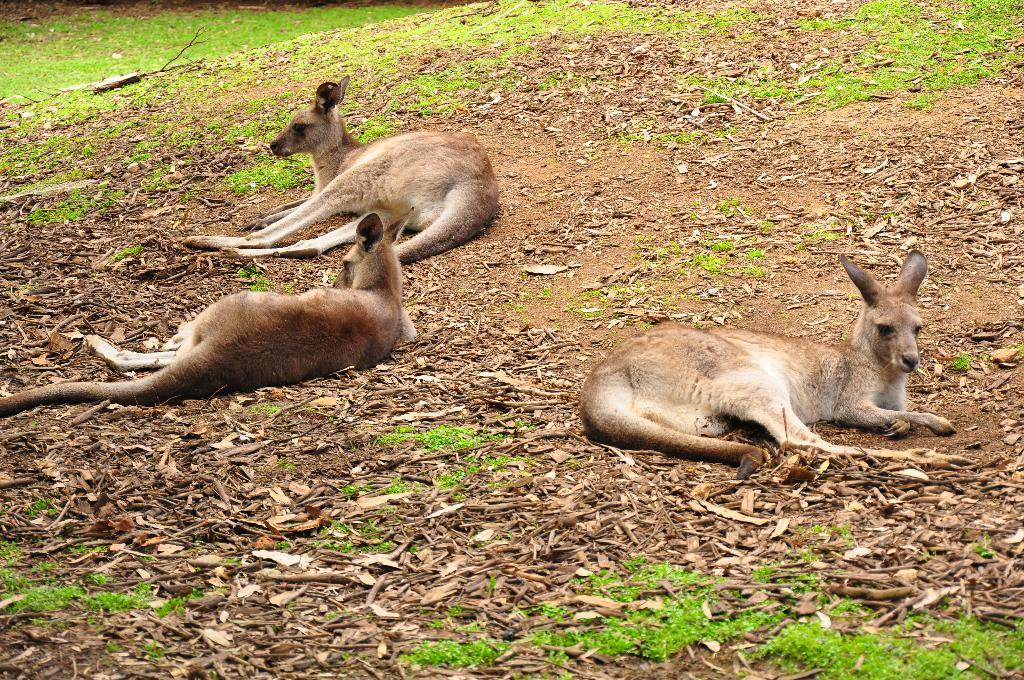kangaroo: (0, 207, 417, 420), (580, 250, 966, 476), (180, 72, 499, 262)
